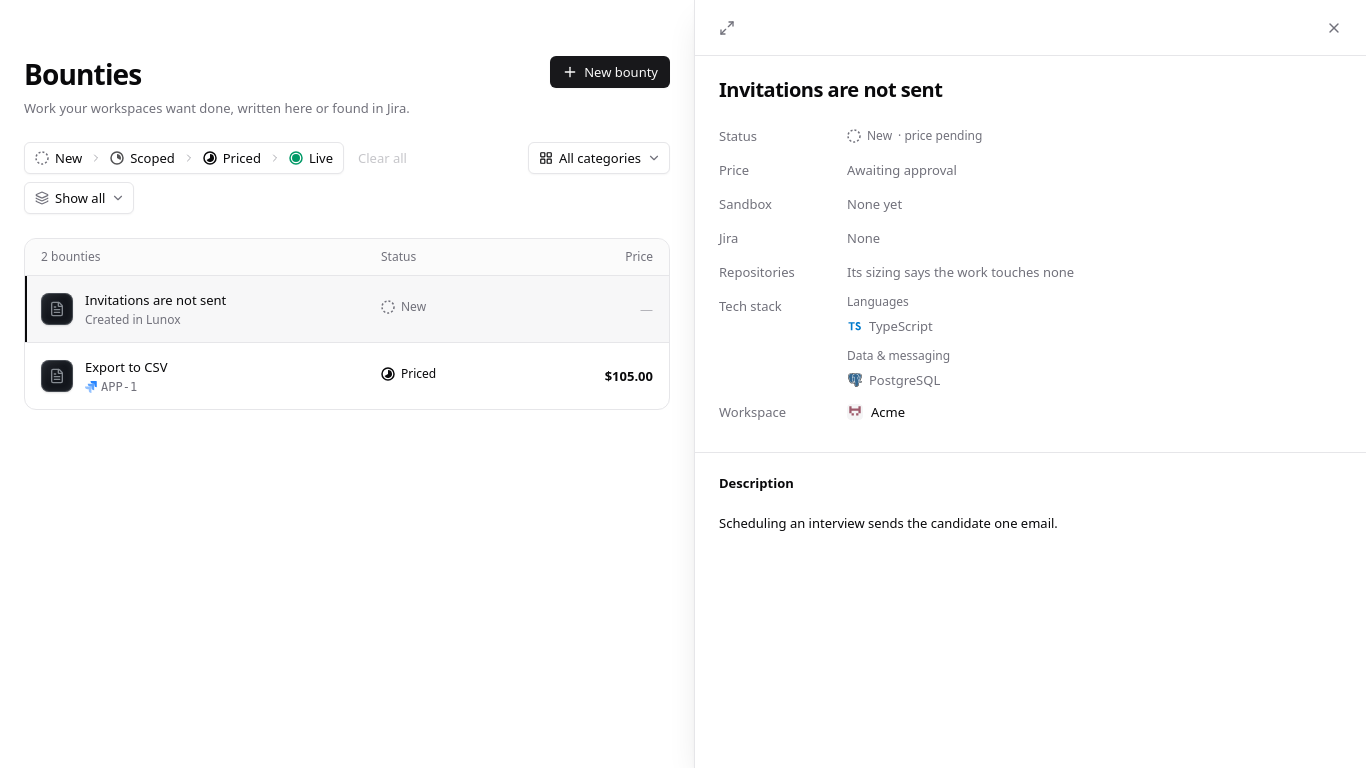
Scenario: a bounty in the panel is a glance, and opens as a page of its own for its proposal
The image size is (1366, 768).
Expected: the 2nd element named "Details" is shown, [718, 120, 763, 138]
Expected: the element "Description" is shown, [695, 452, 1365, 542]
Click the link named "Open as page" at (727, 28), box [719, 20, 735, 36]
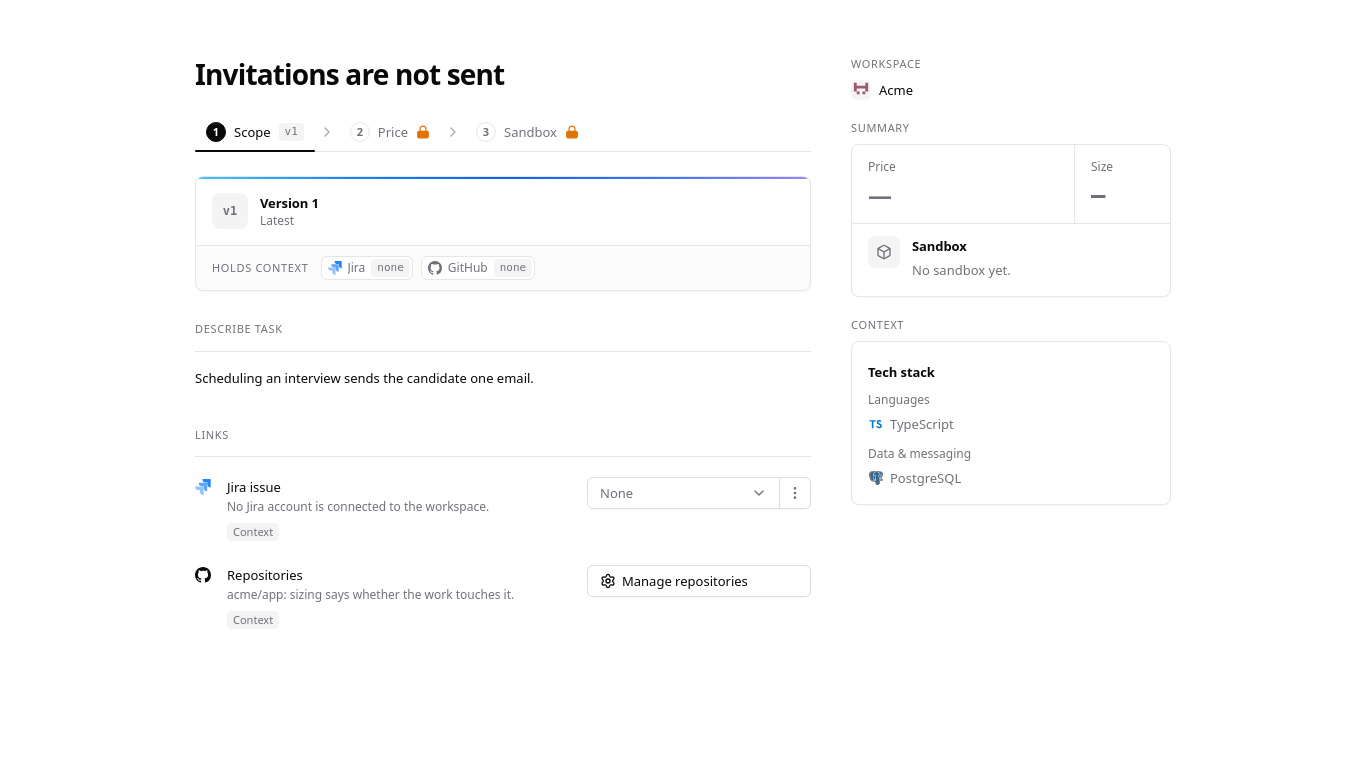
Expected: the dialog is gone
Expected: the heading "Invitations are not sent" is shown, [195, 56, 504, 92]
# A page splits it into tabs, its proposal under Bounty.
Click the tab "2 Price" at (390, 132), box [339, 116, 441, 148]
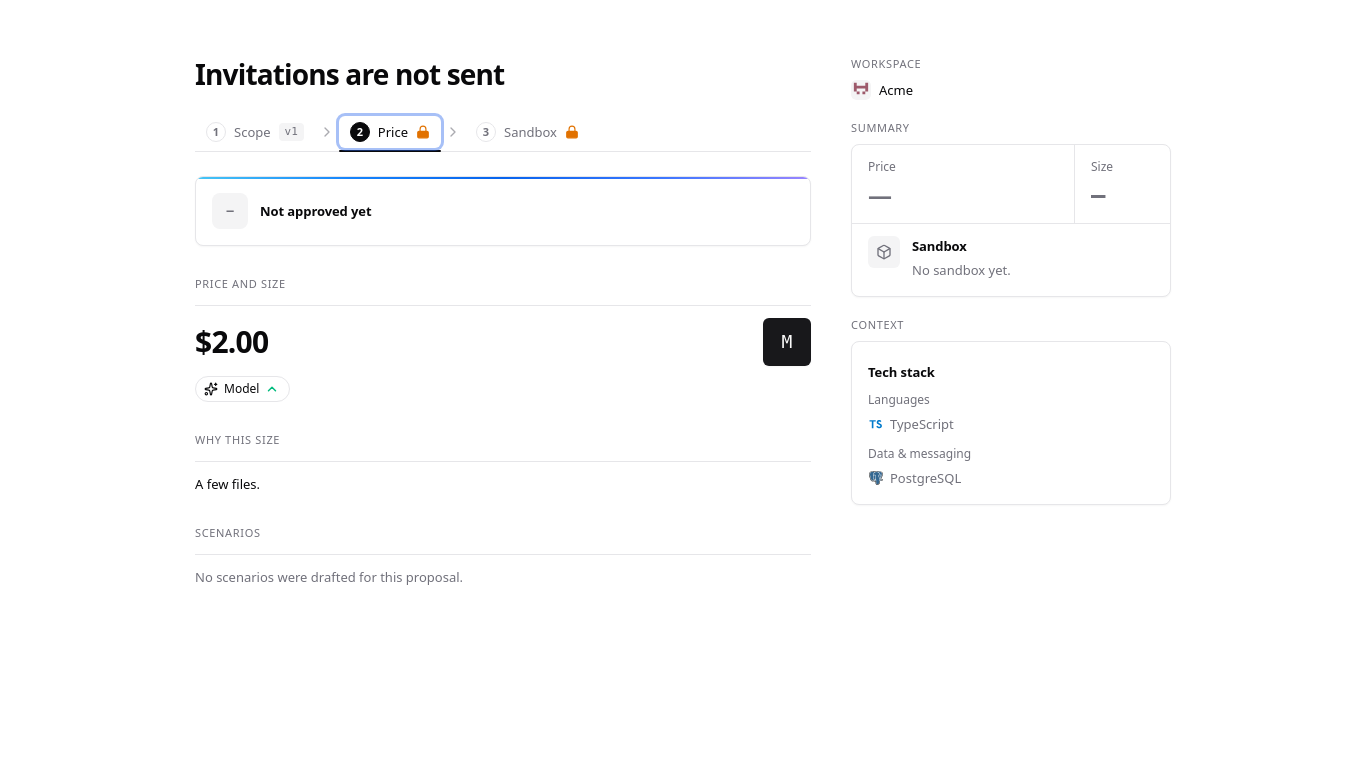
Expected: the element with test id "proposal-detail" is shown, [195, 176, 811, 587]
